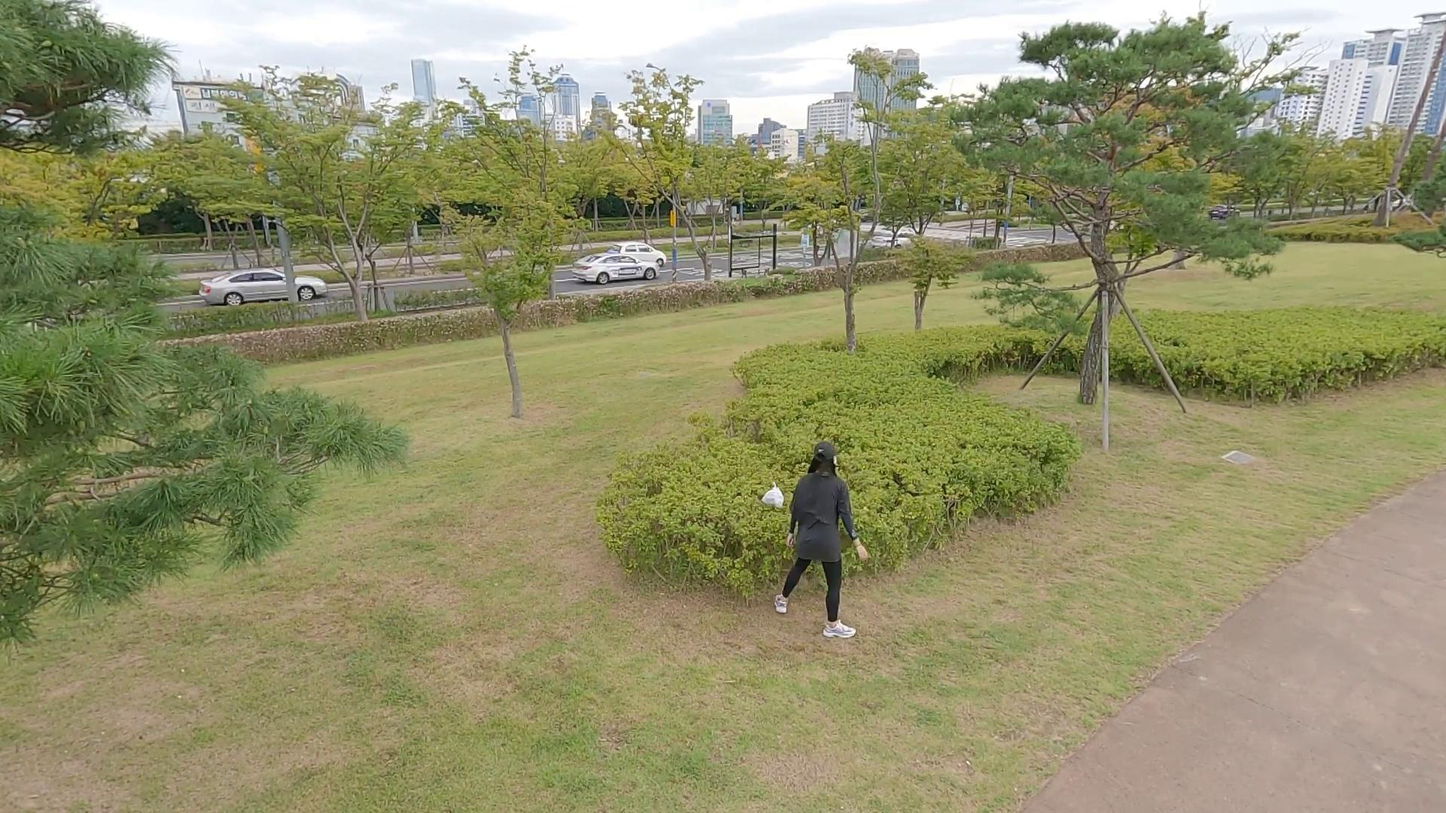person: (773, 443, 868, 636)
trash: (763, 480, 787, 514)
